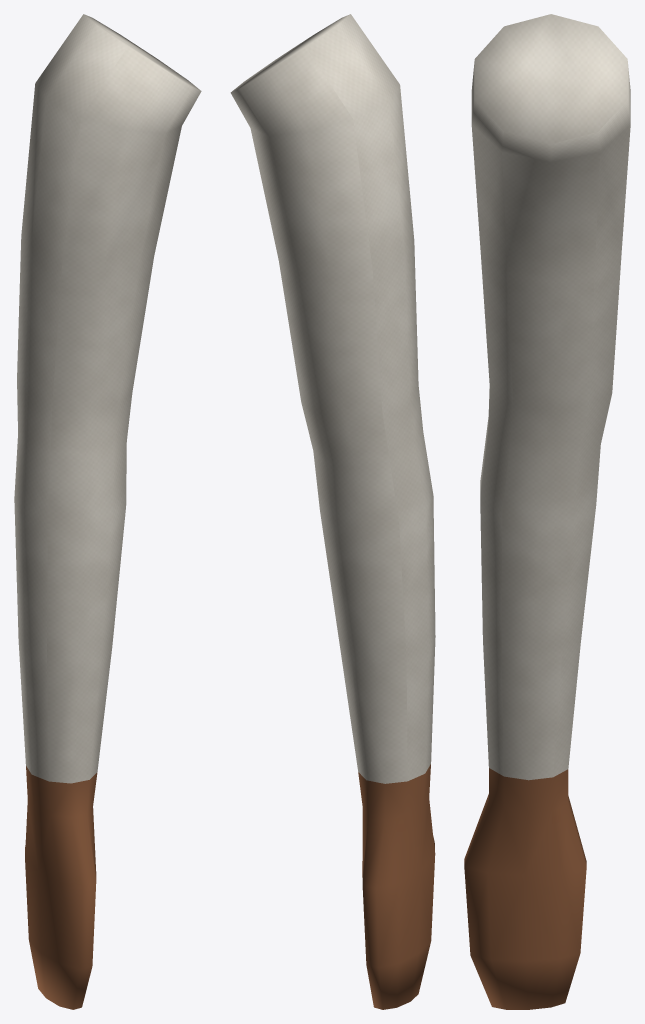
Rendered from brazoder.obj.
3 renders of one model, left to right at view 1: azimuth 30°, elevation 25°; view 2: azimuth 150°, elevation 25°; view 3: azimuth 270°, elevation 25°, orthographic. The views are drawn at different scales.
Parts seen in each view (by area): view 1: BrazoDer; view 2: BrazoDer; view 3: BrazoDer.
Boxes of the visible parts, x1,y1,x2,y2 form: BrazoDer: [14, 14, 201, 1009]; BrazoDer: [230, 14, 435, 1009]; BrazoDer: [464, 14, 630, 1009].
Bounding box in the file's own units: 0.1319 × 0.6968 × 0.1035.
2 materials, 2 textured.
